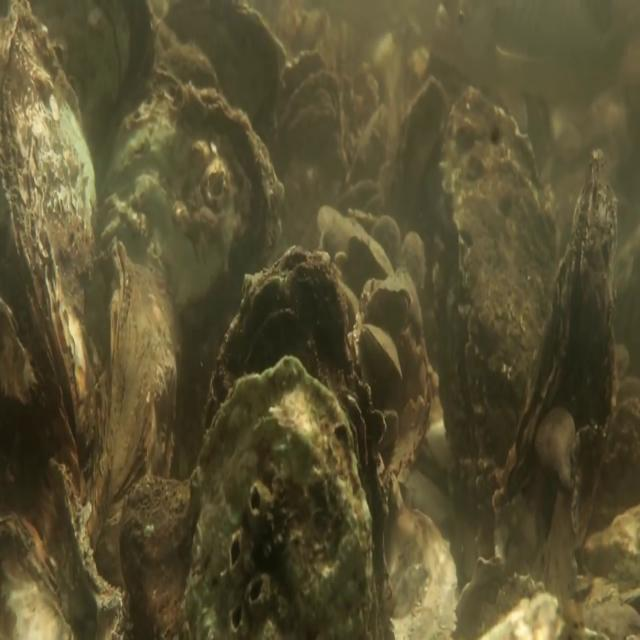Oyster-Closed: (490, 144, 624, 580), (438, 79, 564, 504), (3, 3, 101, 452), (80, 238, 181, 548), (43, 453, 129, 637), (2, 508, 60, 607), (340, 224, 390, 292), (360, 273, 414, 327), (360, 322, 407, 382)
Oyster-Indeterminate: (176, 349, 385, 634), (202, 242, 382, 530), (104, 84, 286, 326)
Oyster-Open: (278, 41, 350, 169)
